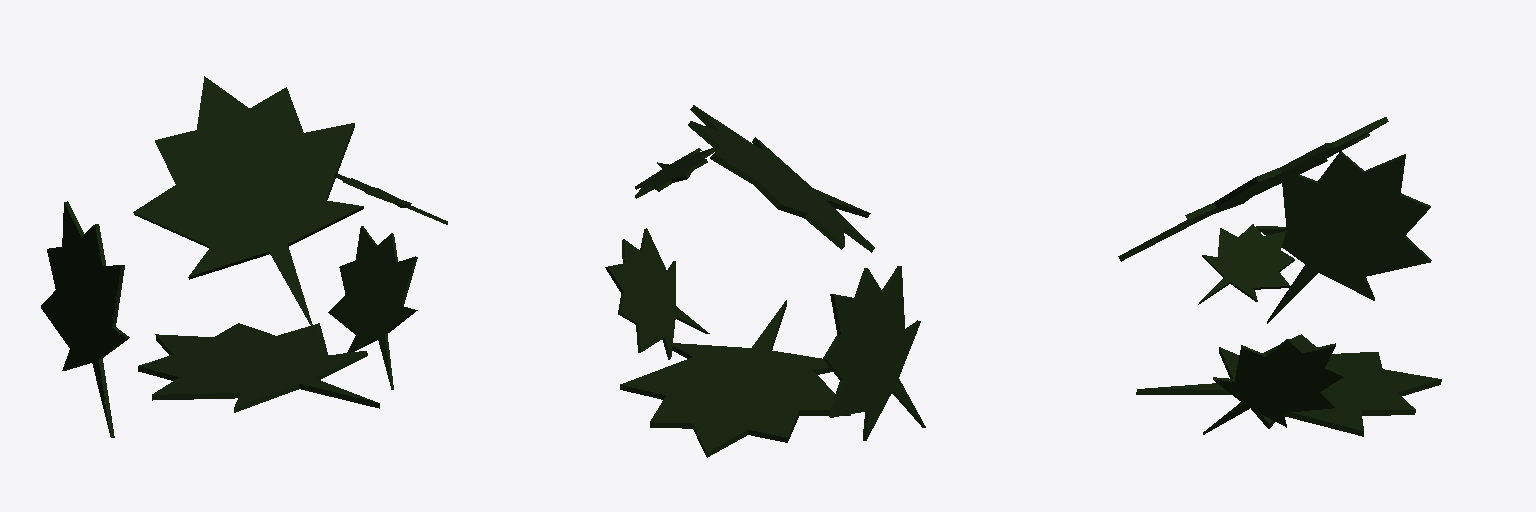
File: leaves_0.obj
The picture shows the model from 3 angles: view 1: azimuth 30°, elevation 25°; view 2: azimuth 150°, elevation 25°; view 3: azimuth 270°, elevation 25°; orthographic projection.
Parts seen in each view (by area): view 1: leaves_0; view 2: leaves_0; view 3: leaves_0.
Boxes of the visible parts, x1=… form: leaves_0: x1=41, y1=76, x2=447, y2=437; leaves_0: x1=605, y1=105, x2=925, y2=457; leaves_0: x1=1118, y1=117, x2=1441, y2=436.
Size of the model in its own units: 7.96 by 7.04 by 7.34.